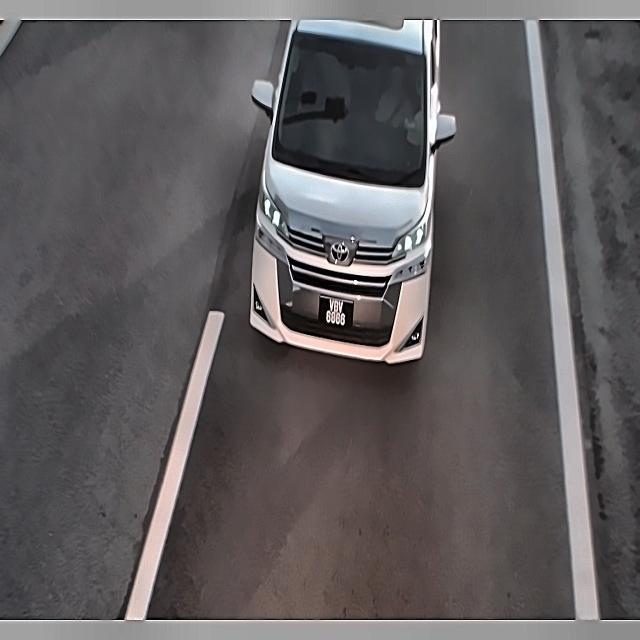car: (316, 290, 352, 338)
